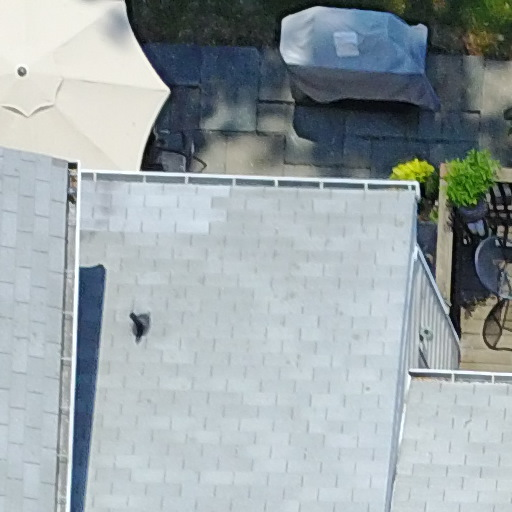flower pot: (456, 175, 497, 233)
umbrella: (2, 1, 194, 174)
